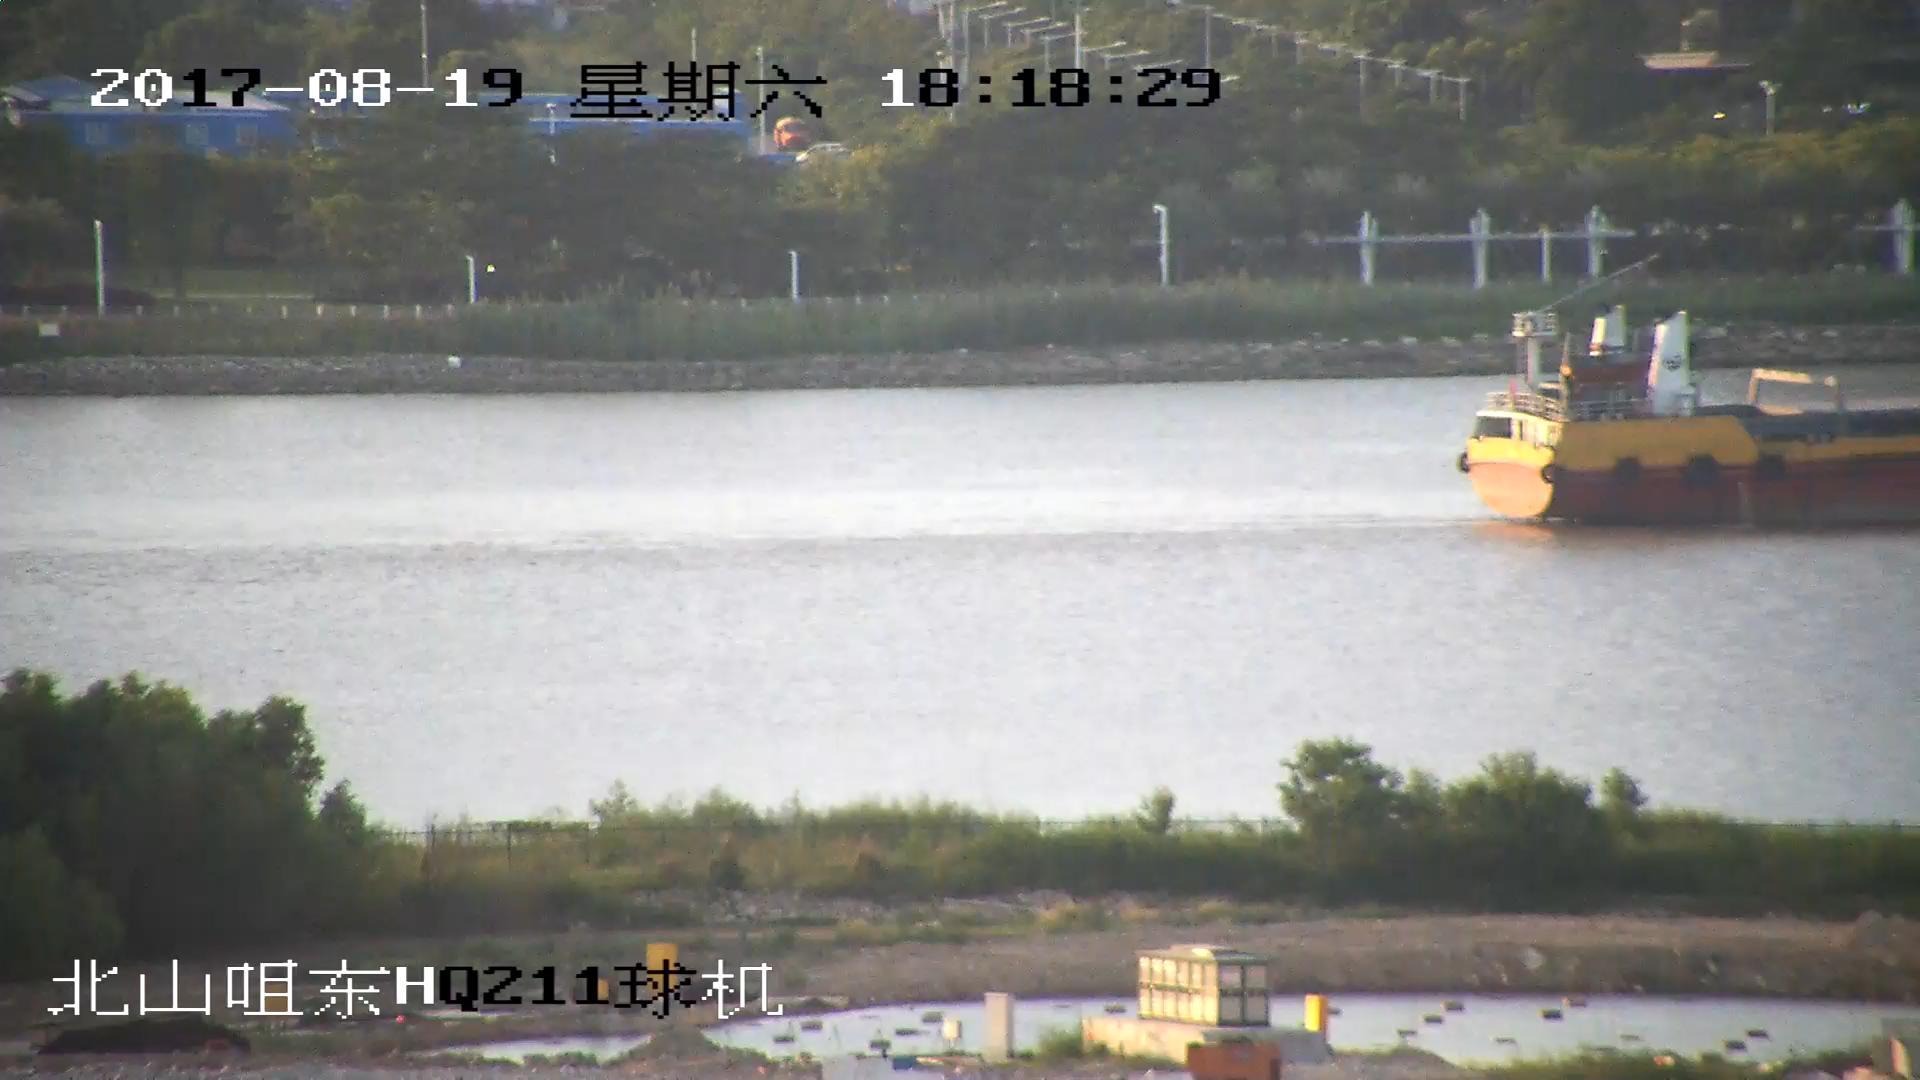general cargo ship: (1466, 313, 1920, 531)
